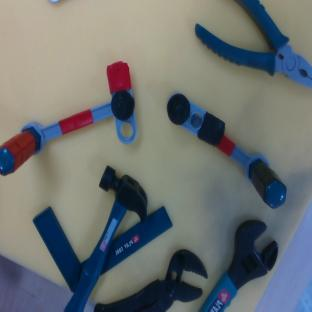non_pass: (159, 85, 297, 213)
pass: (0, 60, 147, 177)
